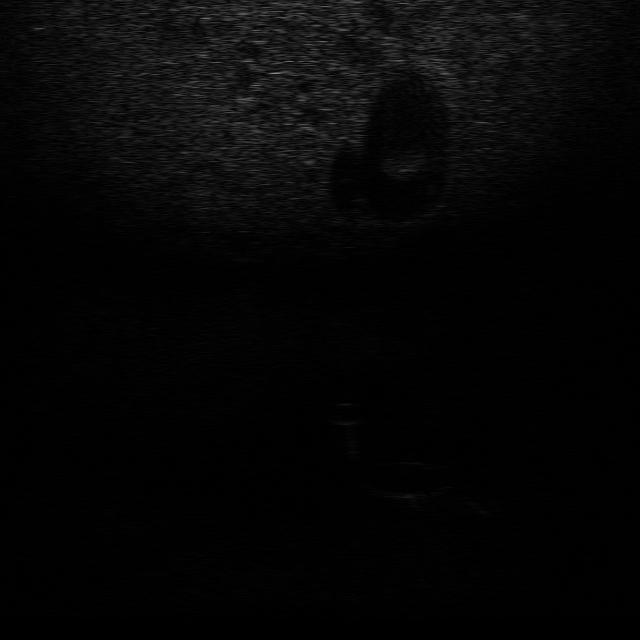ball: (322, 398, 370, 426)
tyre: (358, 459, 458, 501)
